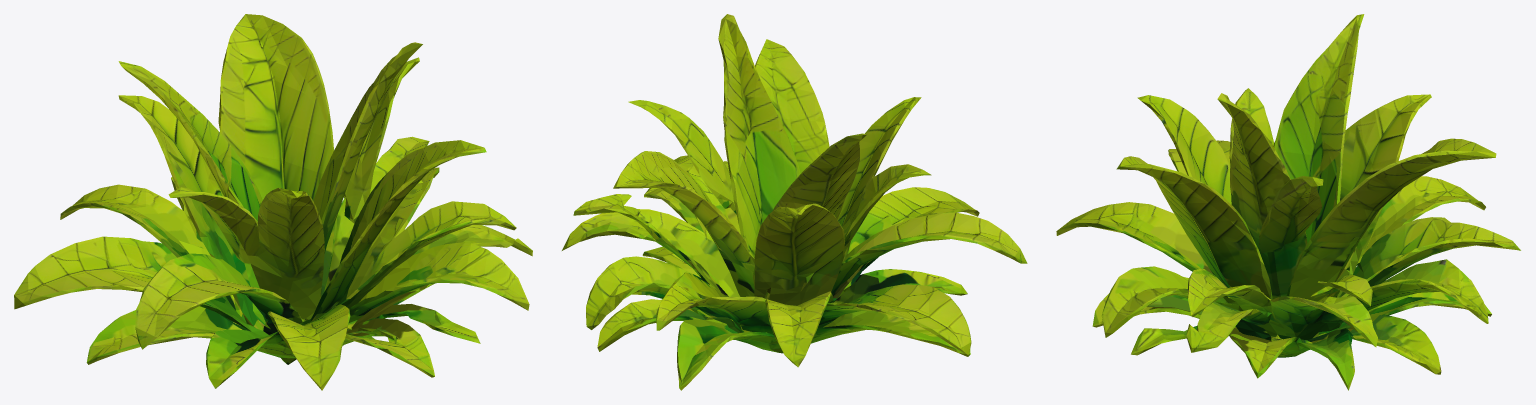
3 views of the same model, side by side, from view 1: azimuth 30°, elevation 25°; view 2: azimuth 150°, elevation 25°; view 3: azimuth 270°, elevation 25° (orthographic). The views are drawn at different scales.
Visible parts, largest first — view 1: 3_1234_50_5.0_384_8000.obj; view 2: 3_1234_50_5.0_384_8000.obj; view 3: 3_1234_50_5.0_384_8000.obj.
Part boxes in pixels (x1=…): 3_1234_50_5.0_384_8000.obj: x1=14, y1=14, x2=532, y2=390; 3_1234_50_5.0_384_8000.obj: x1=562, y1=14, x2=1027, y2=390; 3_1234_50_5.0_384_8000.obj: x1=1056, y1=14, x2=1520, y2=390.
Bounding box in the file's own units: 1.99 × 1.41 × 1.99.
1 material, 1 textured.
